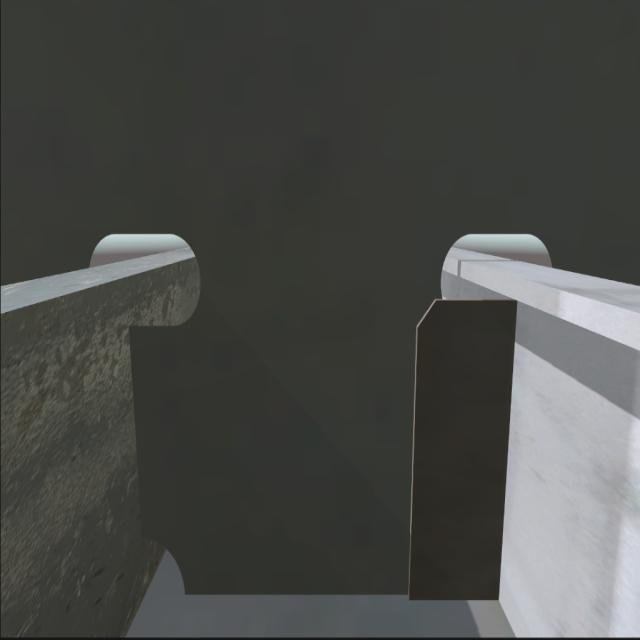fillet_hole: (144, 538, 187, 596)
fillet_yong_jeop_jang: (176, 582, 500, 606)
longi_yong_jeop_jang: (124, 324, 146, 540), (502, 291, 516, 601)
plate_CP01: (410, 297, 505, 595)
